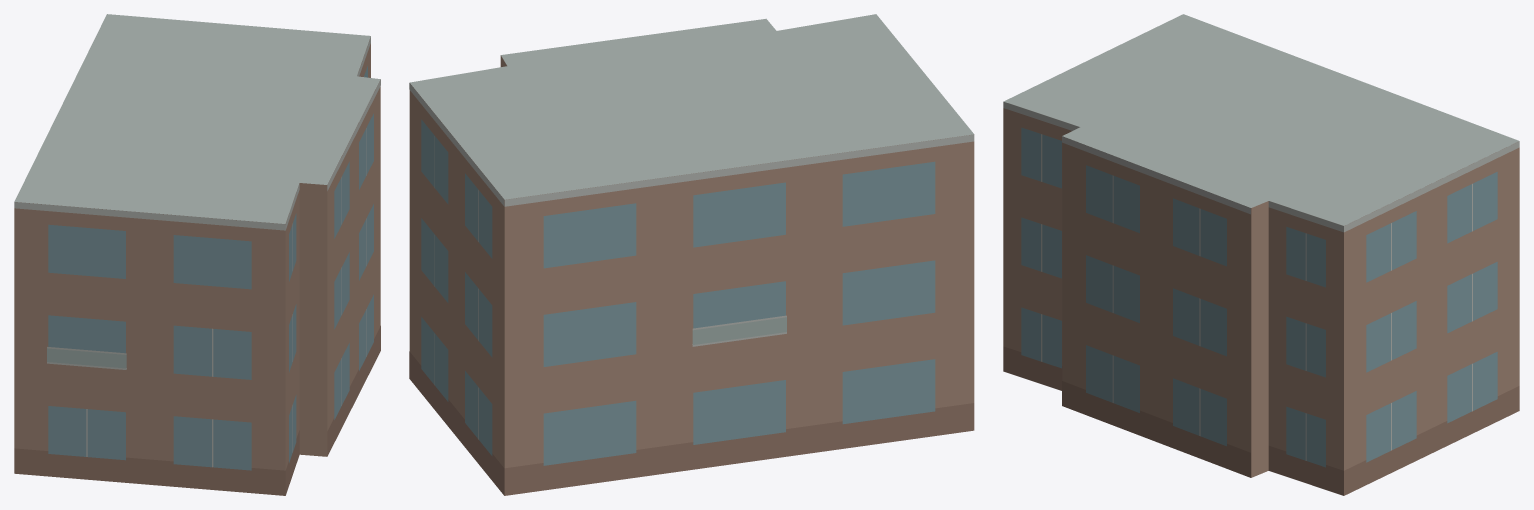
The model's file is survey-upis-32533817.glb.
3 views of the same model, side by side, from view 1: azimuth 30°, elevation 25°; view 2: azimuth 150°, elevation 25°; view 3: azimuth 270°, elevation 25° (orthographic). The views are drawn at different scales.
Visible parts, largest first — view 1: survey-upis-32533817.tmp; view 2: survey-upis-32533817.tmp; view 3: survey-upis-32533817.tmp.
Part boxes in pixels (x1,y1,x2,y2): survey-upis-32533817.tmp: (14, 14, 380, 495); survey-upis-32533817.tmp: (409, 14, 974, 495); survey-upis-32533817.tmp: (1003, 14, 1519, 495).
Size of the model in its own units: 17.19 by 10.2 by 17.69.
